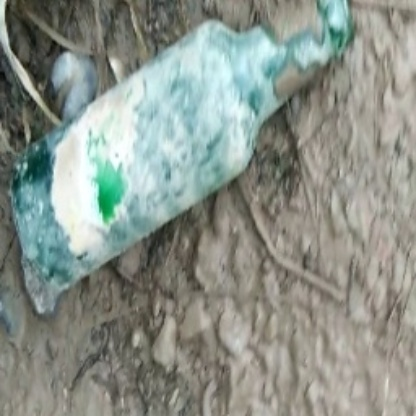bottle: (13, 13, 345, 311)
